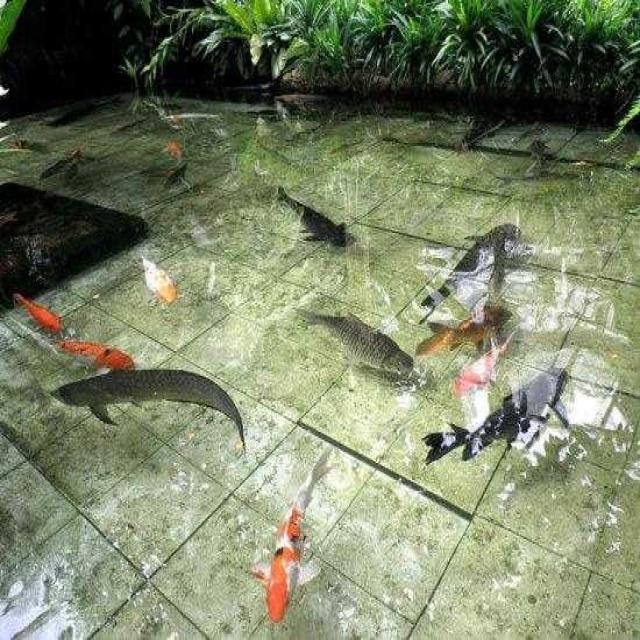Ponds: (1, 87, 640, 640)
